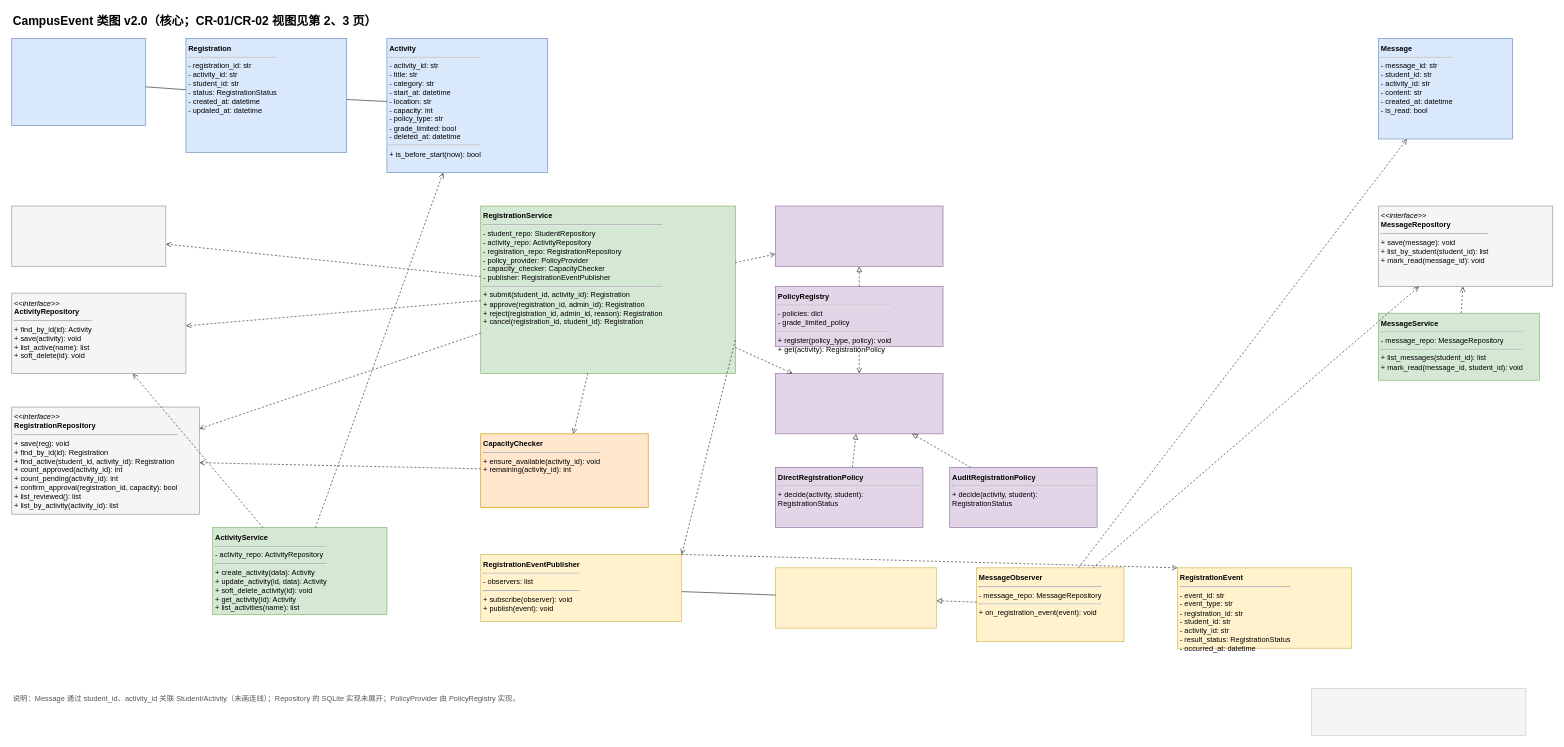
Some shapes in this 1564 by 747 pixel diagram are drawn without their labels. Here are the shapes that lost their labels. From the top down, the centre of each, then its label:
At point 78,82: "Student - student_id: str - name: str - grade: int (1-4)".
At point 88,235: "<<interface>> StudentRepository + find_by_id(id): Student".
At point 859,235: "<<interface>> PolicyProvider + get(activity): RegistrationPolicy".
At point 859,403: "<<interface>> RegistrationPolicy + decide(activity, student): RegistrationStatus".
At point 855,597: "<<interface>> RegistrationObserver + on_registration_event(event): void".
At point 1418,711: "版本：v2.0 | 日期：2026-11-26 | 基线：baseline-v1 | 分支：change-v2 | 方案：甲 + CR-01/CR-02".
